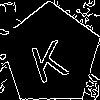K: (25, 30, 70, 84)
